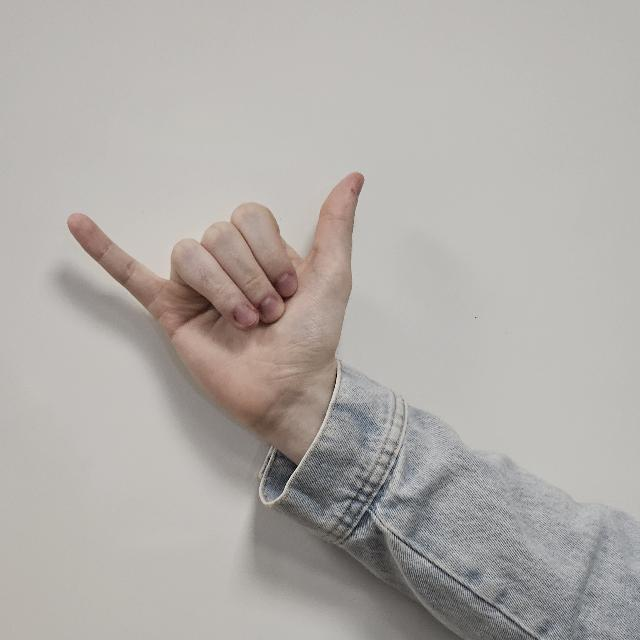Direita: (57, 153, 385, 439)
